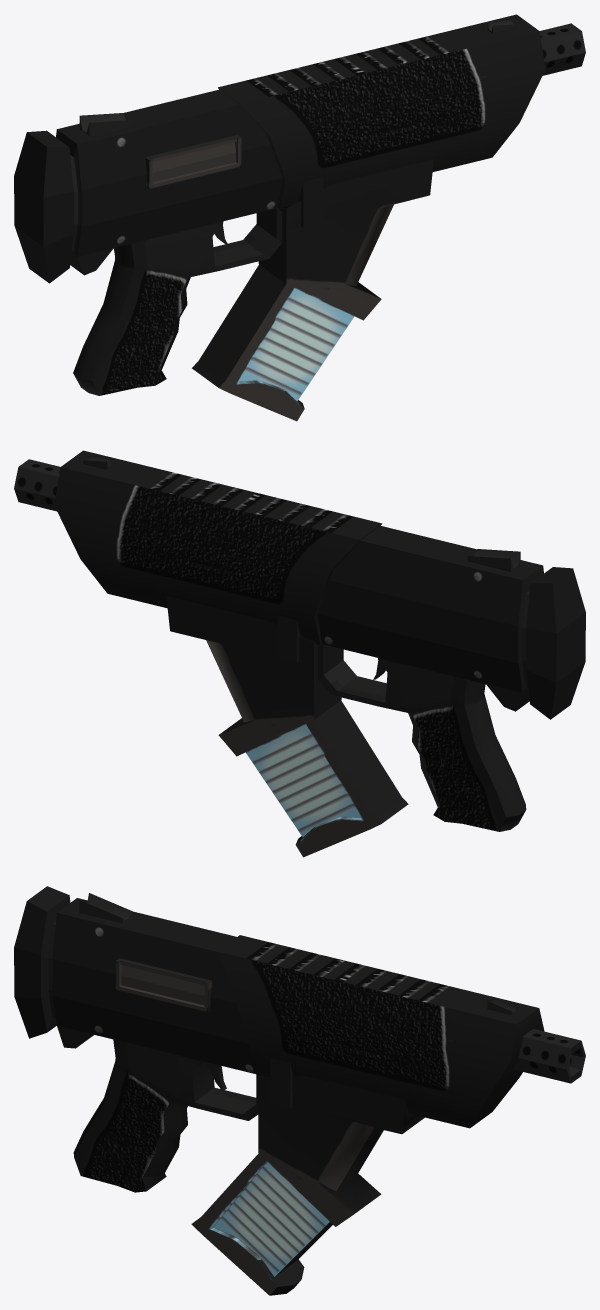
Rendered from Genepool_AR.fbx.
The picture shows the model from 3 angles, top to bottom: view 1: azimuth 30°, elevation 25°; view 2: azimuth 150°, elevation 25°; view 3: azimuth 330°, elevation 25°; orthographic projection.
Visible parts, largest first — view 1: polySurface36; view 2: polySurface36; view 3: polySurface36.
Boxes of the visible parts, x1,y1,x2,y2 form: polySurface36: [14, 14, 585, 421]; polySurface36: [14, 450, 585, 857]; polySurface36: [14, 886, 585, 1295].
Size of the model in its own units: 18.63 by 11.18 by 2.11.
